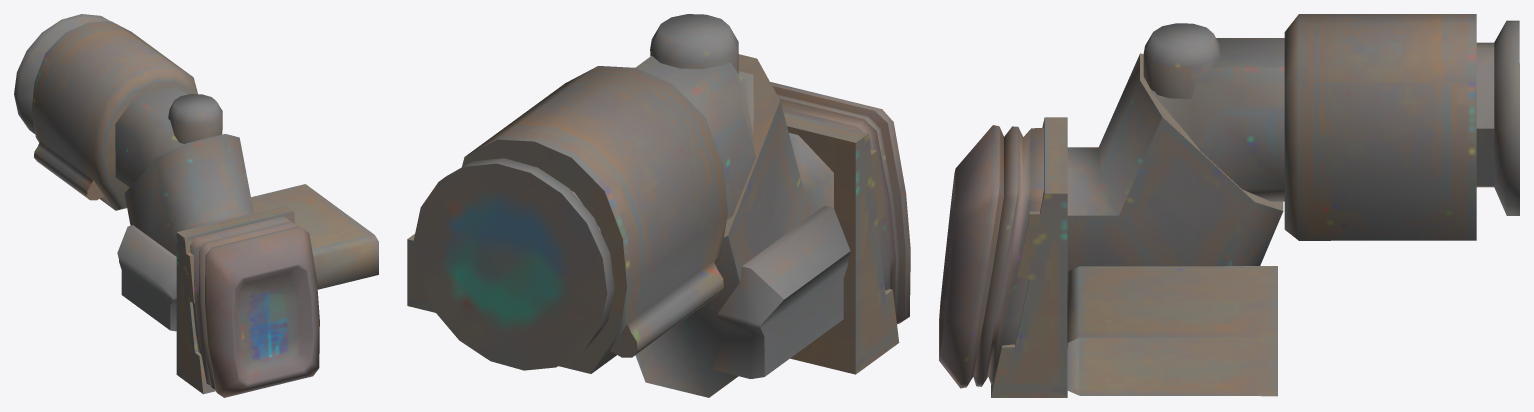
File: sight3.obj
The picture shows the model from 3 angles, left to right: view 1: azimuth 30°, elevation 25°; view 2: azimuth 150°, elevation 25°; view 3: azimuth 270°, elevation 25°; orthographic projection. The views are drawn at different scales.
Parts seen in each view (by area): view 1: sight3; view 2: sight3; view 3: sight3.
Part boxes in pixels (x1,y1,x2,y2): sight3: [14, 14, 378, 397]; sight3: [407, 14, 910, 397]; sight3: [939, 14, 1519, 397].
Size of the model in its own units: 11.63 by 12.4 by 19.44.
